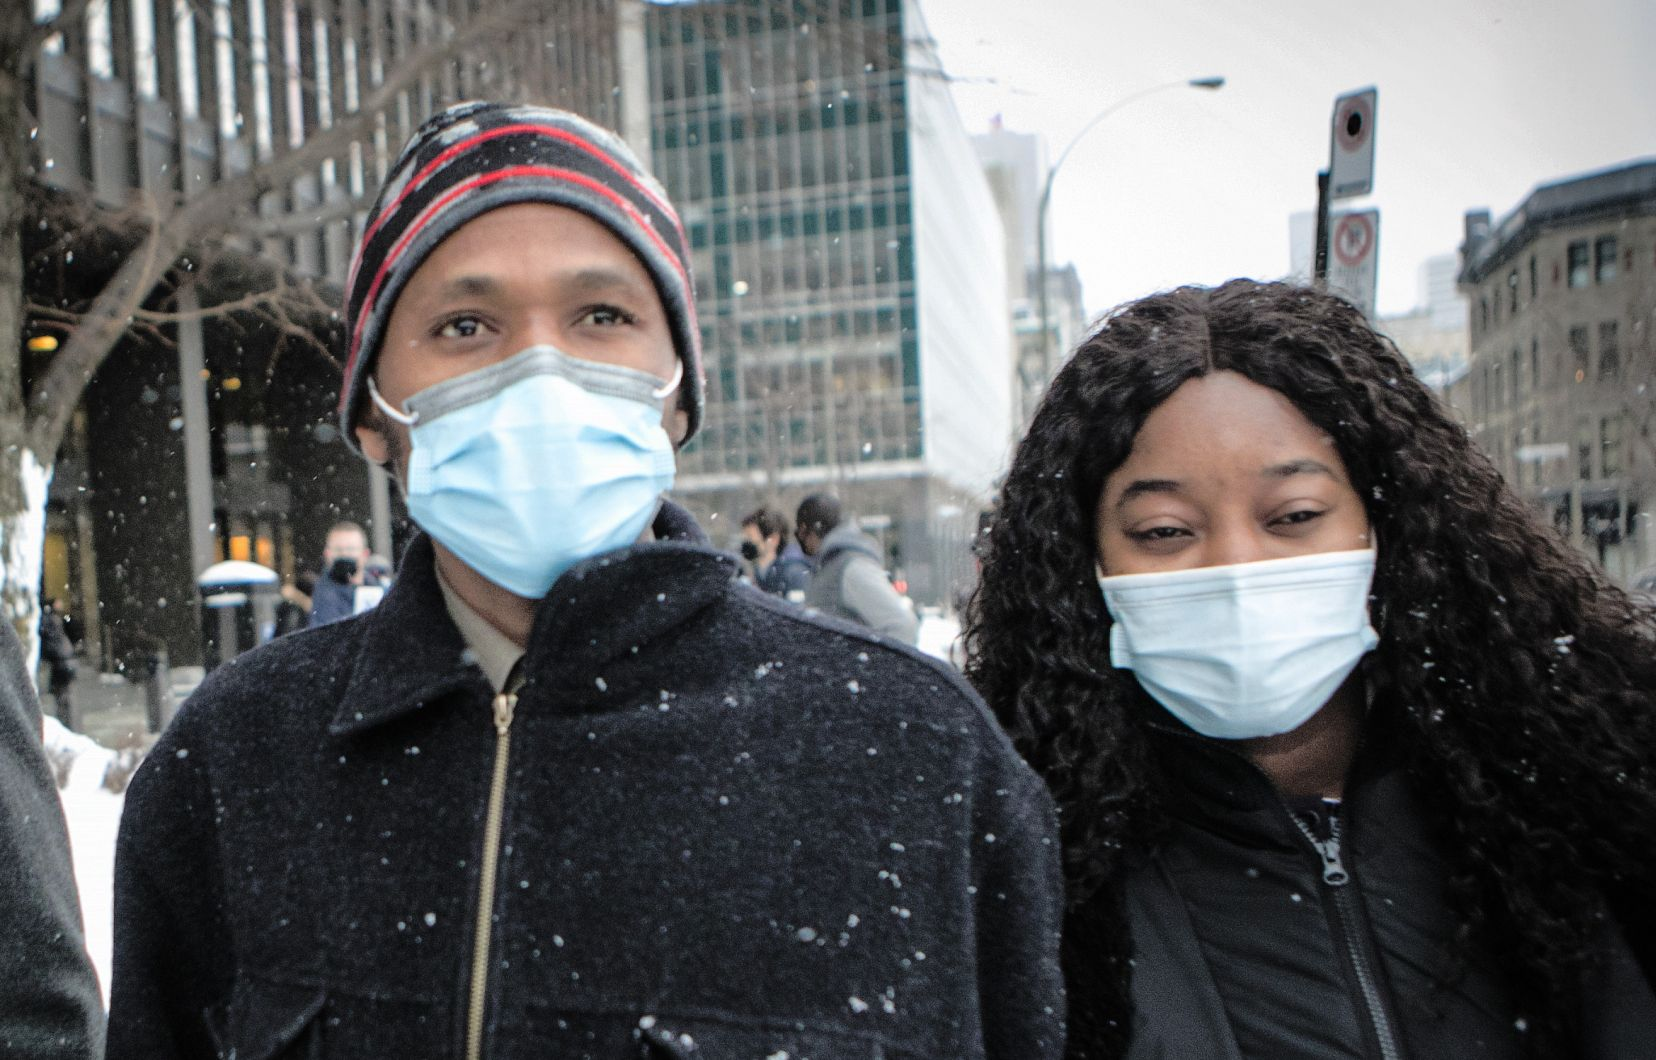with_mask: (1107, 407, 1372, 710), (400, 243, 674, 535)
